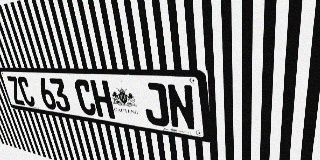3: (49, 78, 72, 112)
6: (36, 77, 58, 110)
C: (73, 79, 98, 116), (16, 76, 37, 107)
H: (90, 80, 115, 119)
J: (141, 82, 170, 127)
N: (166, 83, 196, 131)
Z: (6, 76, 26, 105)
